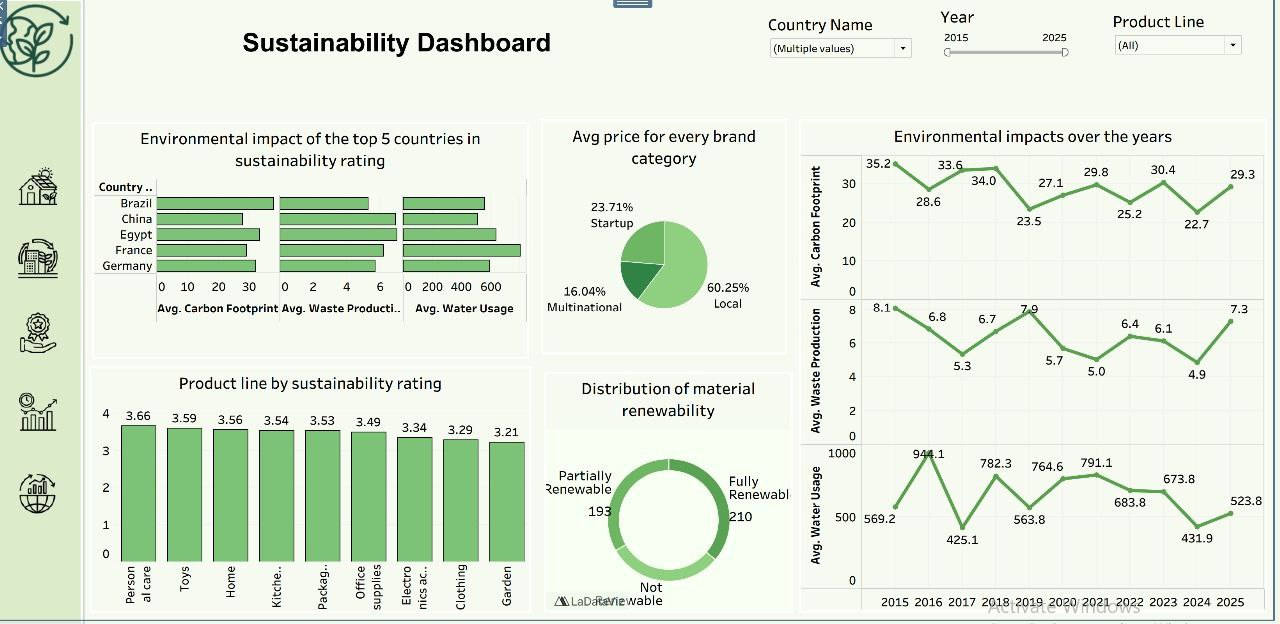

What the dashboard file says about the page in this screenshot:
{"tool":"powerbi","page":{"name":"Dashboard2","canvas":[1280,720],"ordinal":2},"visuals":[{"type":"clusteredColumnChart","title":"Product line by sustainability rating","fields":{"Category":["Sustainability_Fact.product_line"],"Y":["Avg(Sustainability_Fact.sustainability_rating)"]},"box":[153.9,159.4,432.1,272.7],"z":0},{"type":"pieChart","title":"Avg price for every brand category","fields":{"Y":["Sum(Sustainability_Fact.average_price)"],"Category":["Brand_dim.brand_category"]},"box":[593.8,152.8,259.5,285.9],"z":1000},{"type":"donutChart","title":"Distribution of material renewability","fields":{"Category":["Material_dim.material_status"],"Y":["CountNonNull(Brand_dim.brand_name)"]},"box":[153.9,445.3,373.9,274.9],"z":2000},{"type":"lineChart","title":"Average of sustainability_rating over year","fields":{"Y":["Avg(Sustainability_Fact.sustainability_rating)"],"Category":["Year_dim.year"]},"box":[862.1,159.4,412.3,272.7],"z":3000},{"type":"card","title":"Min Sust Rating","fields":{"Values":["Min(Sustainability_Fact.sustainability_rating)"]},"box":[899.5,28.6,349.7,115.5],"z":4000},{"type":"card","title":"Max Sust Rating","fields":{"Values":["Max(Sustainability_Fact.sustainability_rating)"]},"box":[201.2,34.1,325.5,112.2],"z":5000},{"type":"card","title":"AVG Price","fields":{"Values":["Avg(Sustainability_Fact.average_price)"]},"box":[536.6,31.9,354.1,111.1],"z":6000},{"type":"image","box":[546.5,36.3,131.9,99],"z":7000},{"type":"image","box":[903.9,41.8,116.6,89.1],"z":8000},{"type":"image","box":[211.1,48.4,111.1,83.6],"z":9000},{"type":"shape","box":[0,0,145.3,719.8],"z":10000},{"type":"actionButton","title":"Dashboard 3","box":[5.8,112.8,136,31.4],"z":11000},{"type":"actionButton","title":"Dashboard4","box":[5.5,159.4,136.3,30.8],"z":12000},{"type":"actionButton","title":"Dashboard 1","box":[5.8,75.6,136,32.6],"z":13000},{"type":"actionButton","title":"Home","box":[5.5,34.1,136.3,31.9],"z":14000},{"type":"treemap","title":"AVE of sustainability_rating by target_audience","fields":{"Values":["Avg(Sustainability_Fact.sustainability_rating)"],"Group":["Product_Category_dim.target_audience"]},"box":[903.9,445.3,354.1,274.9],"z":15000},{"type":"scatterChart","title":"Impact of certification on sustainability","fields":{"X":["Certification_dim.certification"],"Y":["Avg(Sustainability_Fact.sustainability_rating)"],"Category":["Brand_dim.brand_name"]},"box":[546.5,445.3,344.2,270.5],"z":16000},{"type":"listSlicer","fields":{"Values":["Product_Category_dim.target_audience"]},"box":[8.8,241.9,129.8,196.8],"z":17000},{"type":"listSlicer","fields":{"Values":["Brand_dim.brand_category"]},"box":[5.5,449.7,136.3,171.5],"z":18000}]}

Visuals, with their boxes on the page's 1280x720 design canvas (x1, y1, x2, y2). These are canvas units, not pixel positions in the 1280x624 screenshot, which may show the page scaled, cropped or inside an application window:
"Product line by sustainability rating" clusteredColumnChart: detection(154, 159, 586, 432)
"Avg price for every brand category" pieChart: detection(594, 153, 853, 439)
"Distribution of material renewability" donutChart: detection(154, 445, 528, 720)
"Average of sustainability_rating over year" lineChart: detection(862, 159, 1274, 432)
"Min Sust Rating" card: detection(900, 29, 1249, 144)
"Max Sust Rating" card: detection(201, 34, 527, 146)
"AVG Price" card: detection(537, 32, 891, 143)
image: detection(546, 36, 678, 135)
image: detection(904, 42, 1020, 131)
image: detection(211, 48, 322, 132)
shape: detection(0, 0, 145, 720)
"Dashboard 3" actionButton: detection(6, 113, 142, 144)
"Dashboard4" actionButton: detection(6, 159, 142, 190)
"Dashboard 1" actionButton: detection(6, 76, 142, 108)
"Home" actionButton: detection(6, 34, 142, 66)
"AVE of sustainability_rating by target_audience" treemap: detection(904, 445, 1258, 720)
"Impact of certification on sustainability" scatterChart: detection(546, 445, 891, 716)
listSlicer - Product_Category_dim.target_audience: detection(9, 242, 139, 439)
listSlicer - Brand_dim.brand_category: detection(6, 450, 142, 621)
